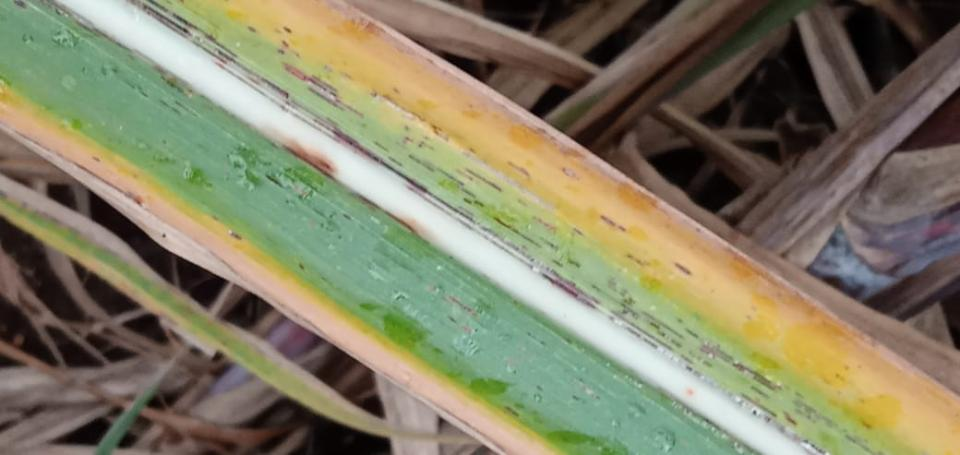RedRot: (278, 137, 340, 175), (686, 387, 695, 397)
Rust: (606, 313, 833, 454), (404, 184, 599, 311), (310, 116, 478, 226), (212, 60, 342, 145), (479, 223, 603, 306), (789, 390, 889, 454), (145, 0, 240, 59), (280, 60, 365, 119), (146, 11, 229, 66), (699, 340, 785, 393), (213, 47, 292, 101), (608, 308, 676, 352), (281, 143, 337, 183), (367, 86, 427, 123), (143, 1, 195, 38), (492, 215, 543, 250), (638, 307, 687, 341), (152, 62, 192, 100), (381, 208, 425, 240), (91, 25, 133, 53), (463, 167, 504, 195), (740, 392, 779, 419), (446, 293, 479, 317), (436, 166, 466, 187), (355, 192, 384, 212), (73, 18, 102, 38), (531, 215, 558, 236), (407, 153, 435, 173), (173, 99, 200, 119), (506, 160, 532, 179), (157, 98, 182, 117), (429, 123, 451, 144), (132, 47, 156, 66), (748, 383, 771, 401), (621, 302, 640, 322), (538, 235, 559, 253), (625, 251, 646, 269), (263, 173, 285, 190), (672, 261, 693, 278), (226, 227, 246, 243), (782, 410, 800, 427), (455, 167, 474, 183), (386, 154, 405, 169), (419, 139, 438, 154), (683, 326, 701, 341), (504, 404, 522, 419), (371, 139, 390, 153), (598, 214, 618, 227), (460, 186, 477, 200), (686, 348, 703, 362), (679, 352, 696, 365), (605, 276, 617, 294), (565, 257, 581, 270), (859, 419, 874, 432), (244, 75, 260, 87), (283, 100, 299, 112), (515, 197, 530, 209), (833, 370, 846, 383), (669, 337, 683, 349), (445, 314, 459, 326), (589, 282, 603, 294), (561, 167, 576, 178), (466, 145, 479, 157), (550, 258, 564, 269), (571, 226, 585, 237), (701, 359, 715, 370), (533, 382, 545, 394), (13, 0, 29, 9), (90, 154, 103, 165), (340, 212, 353, 223), (648, 320, 662, 330), (293, 49, 304, 61), (281, 25, 294, 35), (655, 329, 668, 339), (296, 262, 307, 273), (245, 24, 257, 34), (461, 196, 473, 206), (209, 214, 221, 224), (748, 304, 760, 314), (473, 199, 486, 208), (403, 135, 416, 144), (616, 224, 627, 234), (743, 313, 754, 323), (460, 148, 471, 158), (618, 288, 629, 298), (571, 393, 582, 403), (674, 315, 684, 325), (391, 86, 402, 95), (280, 40, 290, 49), (139, 89, 149, 98), (627, 296, 637, 305), (275, 48, 286, 56), (623, 298, 632, 307), (160, 231, 168, 240), (693, 226, 702, 234), (160, 139, 169, 146), (447, 254, 454, 262), (843, 364, 850, 371), (403, 124, 410, 131), (417, 143, 423, 149), (473, 328, 479, 334), (329, 214, 333, 219), (512, 370, 517, 374)
